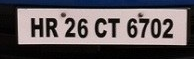0: (150, 17, 162, 39)
2: (161, 17, 176, 39), (63, 17, 76, 38)
6: (125, 17, 139, 39), (76, 18, 89, 38)
7: (138, 17, 151, 38)
C: (92, 17, 108, 38)
H: (29, 17, 46, 38)
R: (45, 17, 60, 38)
T: (107, 17, 121, 38)
